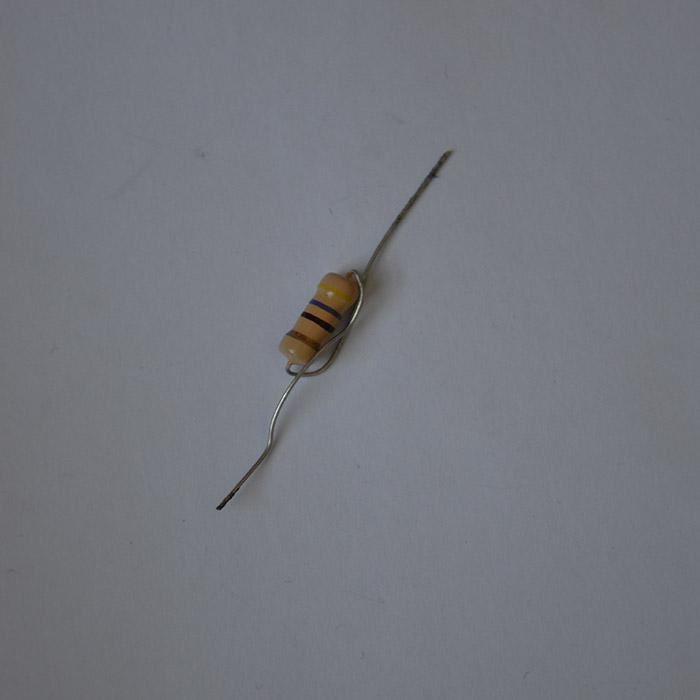resistor: (278, 270, 360, 369)
